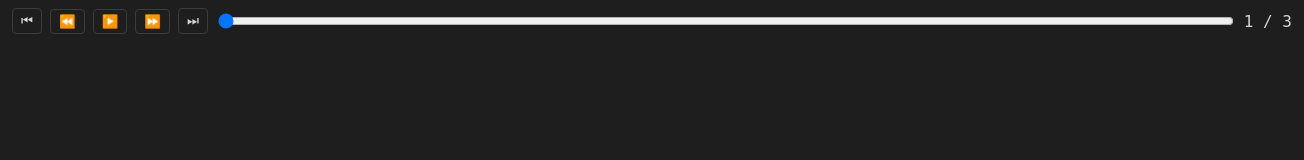
Test: TransportControls › jumps to the last step
What coordinates should you click on to do the following:
click the button "⏭"
I would click on:
 (193, 21)
Its box is [178, 8, 208, 34].
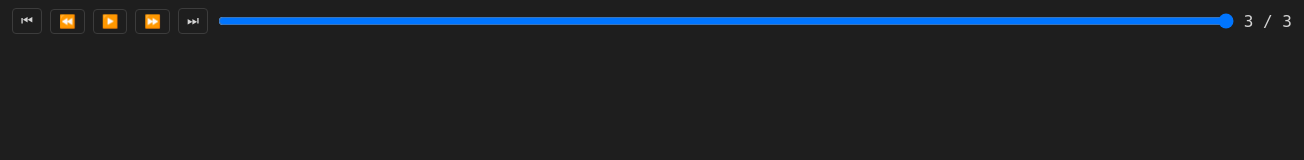
Now the text "3 / 3" is shown, box [1244, 12, 1292, 30]
